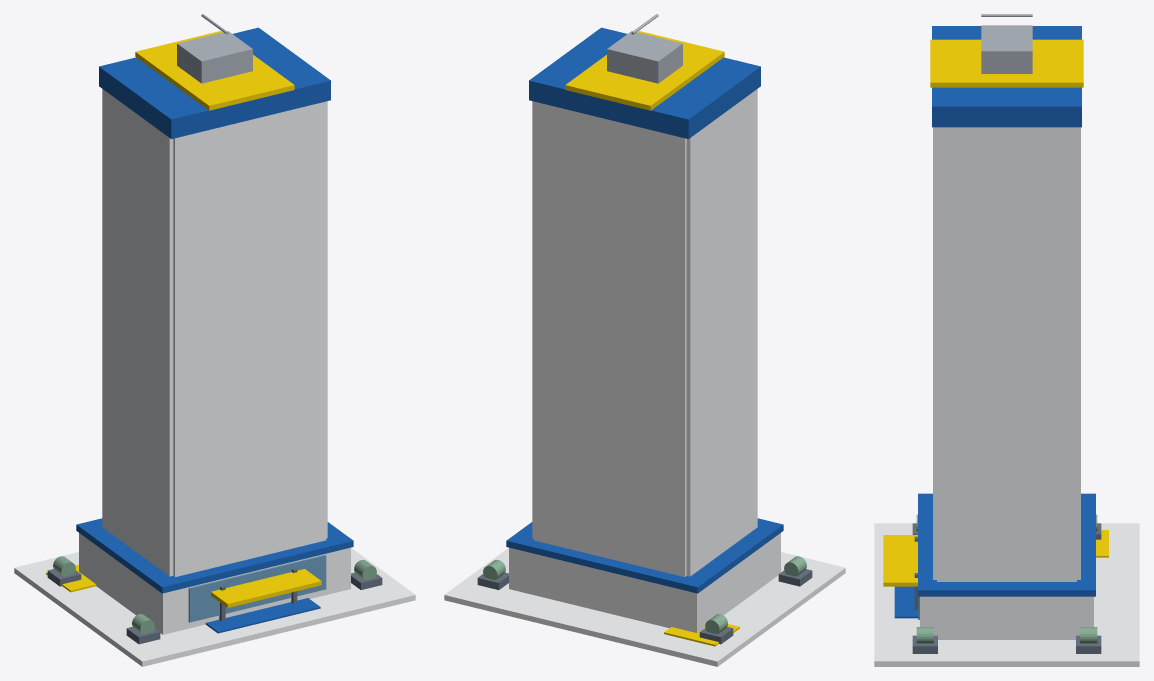
3 views of the same model, side by side, from view 1: azimuth 30°, elevation 25°; view 2: azimuth 150°, elevation 25°; view 3: azimuth 270°, elevation 25° (orthographic). The views are drawn at different scales.
Visible parts, largest first — view 1: corner_z_6.9, corner_x_-8.9, plaza, crown, podium, podium_blue_band, crown_gold, roof_mech, podium_glass_front, canopy, plaza_blue, corner_x_8.9; view 2: corner_z_-6.9, corner_x_-8.9, plaza, podium, crown, podium_blue_band, crown_gold, roof_mech, corner_x_8.9; view 3: corner_x_8.9, plaza, crown, podium, crown_gold, podium_blue_band, roof_mech, corner_z_-6.9, corner_z_6.9, canopy, plaza_blue.
Part boxes in pixels (x1,y1,x2,y2): corner_z_6.9: [173, 101, 326, 576]; corner_x_-8.9: [102, 89, 173, 576]; plaza: [14, 548, 415, 666]; crown: [99, 27, 330, 138]; podium: [79, 533, 350, 634]; podium_blue_band: [76, 518, 353, 593]; crown_gold: [135, 31, 294, 110]; roof_mech: [177, 31, 252, 83]; podium_glass_front: [188, 555, 326, 622]; canopy: [211, 569, 321, 607]; plaza_blue: [205, 598, 320, 633]; corner_x_8.9: [326, 101, 327, 538]; corner_z_-6.9: [533, 101, 686, 576]; corner_x_-8.9: [686, 89, 757, 576]; plaza: [444, 548, 845, 666]; podium: [509, 533, 780, 632]; crown: [529, 27, 760, 138]; podium_blue_band: [506, 518, 783, 593]; crown_gold: [565, 31, 724, 110]; roof_mech: [607, 31, 682, 83]; corner_x_8.9: [532, 101, 533, 538]; corner_x_8.9: [937, 127, 1076, 581]; plaza: [874, 523, 1139, 666]; crown: [932, 26, 1081, 127]; podium: [920, 596, 1093, 639]; crown_gold: [930, 39, 1083, 87]; podium_blue_band: [918, 493, 1095, 596]; roof_mech: [981, 25, 1032, 73]; corner_z_-6.9: [1077, 127, 1080, 579]; corner_z_6.9: [933, 127, 936, 579]; canopy: [883, 535, 917, 586]; plaza_blue: [894, 586, 918, 618].
Size of the model in its own units: 32 by 63.05 by 26.
